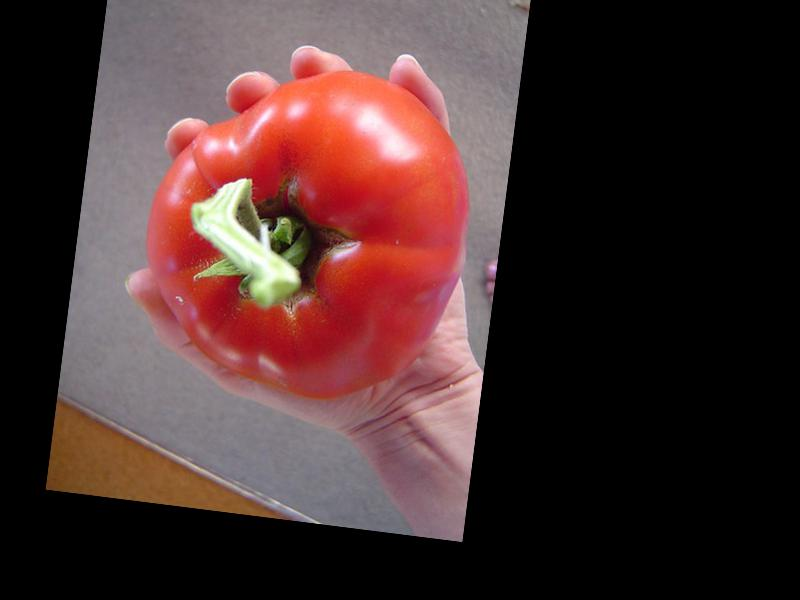Tomato: (128, 48, 484, 414)
